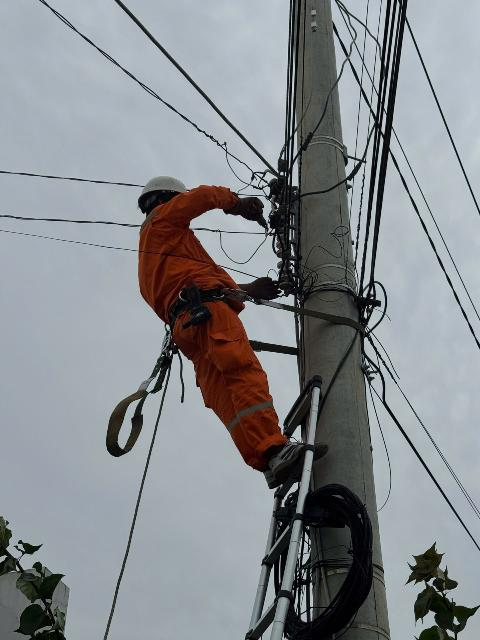gloves: (217, 186, 274, 230), (235, 272, 286, 308)
harness: (151, 283, 240, 319)
helmet: (132, 171, 192, 210)
shoes: (260, 435, 332, 474), (254, 451, 302, 496)
